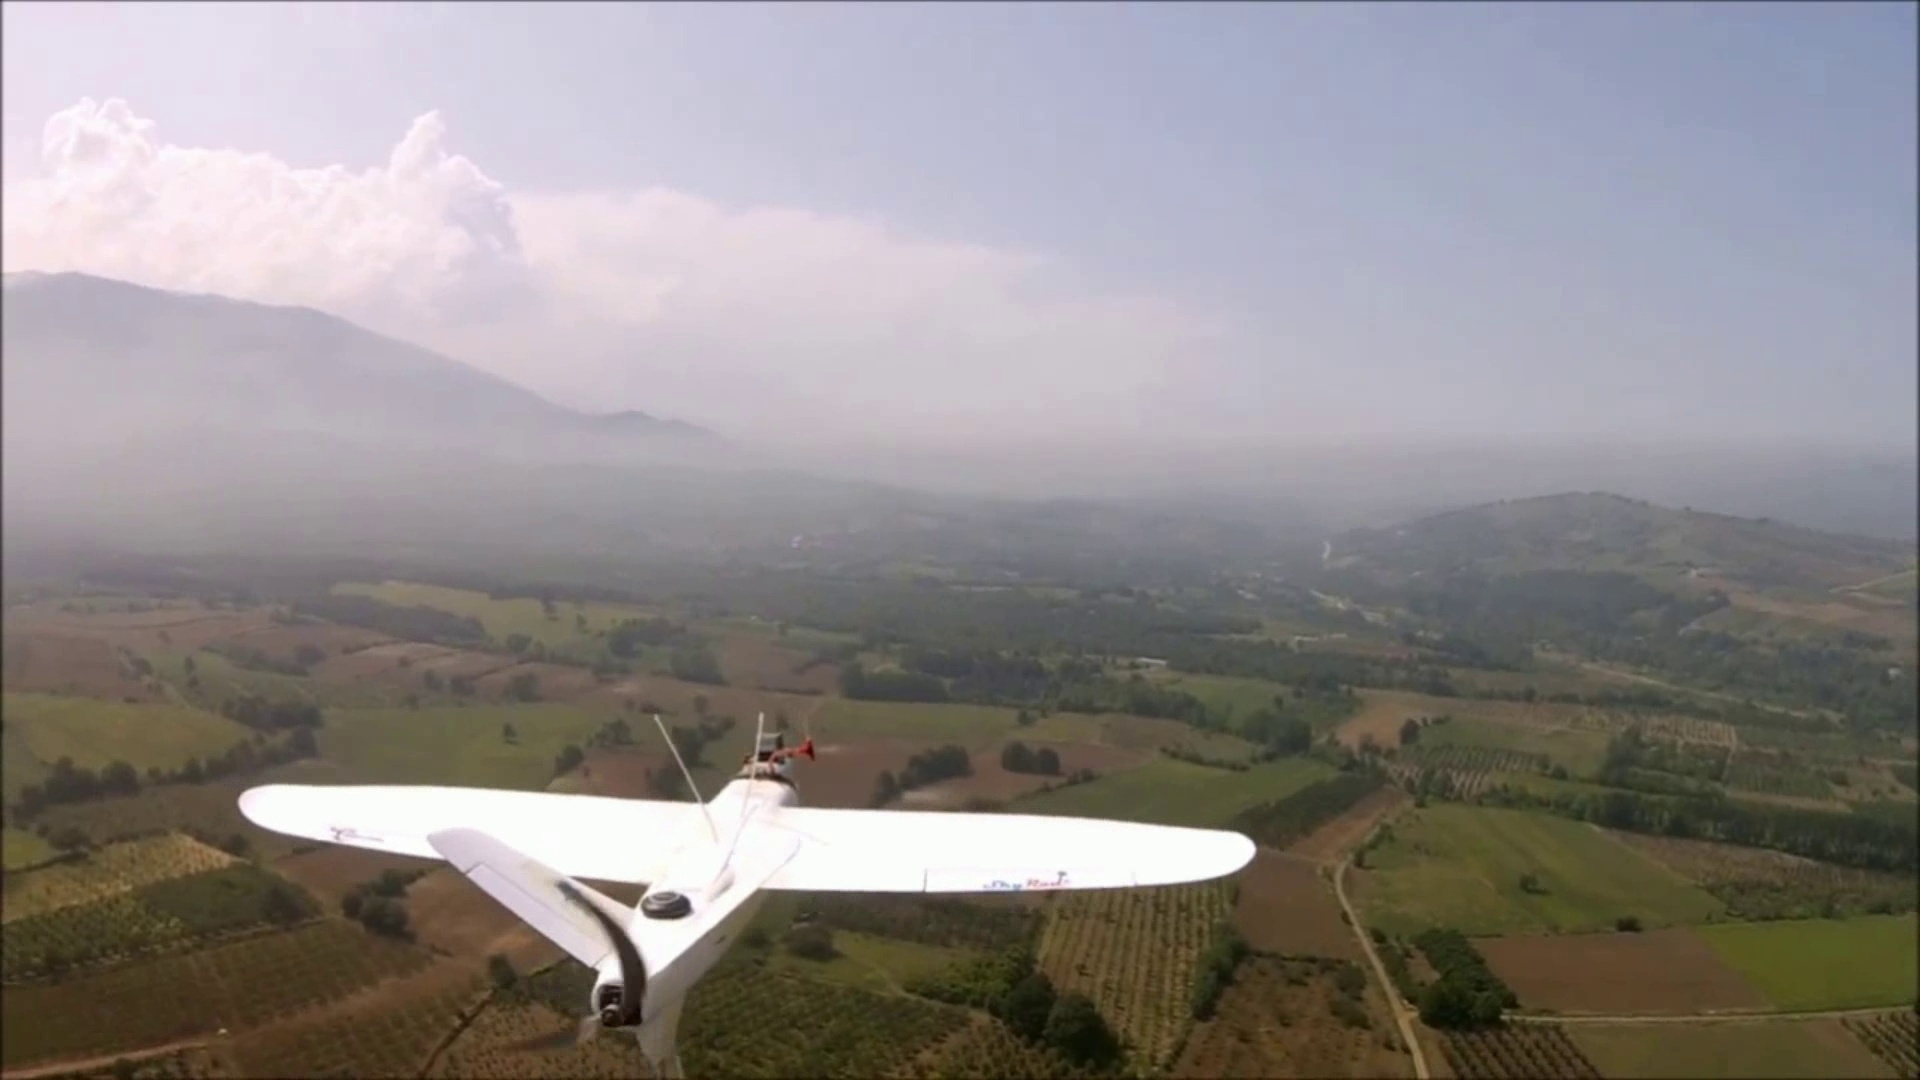airplane: (235, 737, 1258, 1071)
